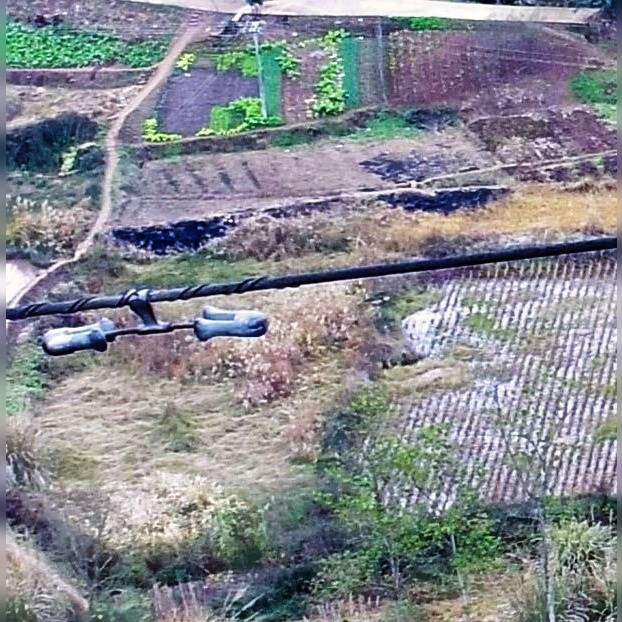Shockproof hammer: (35, 279, 279, 361)
